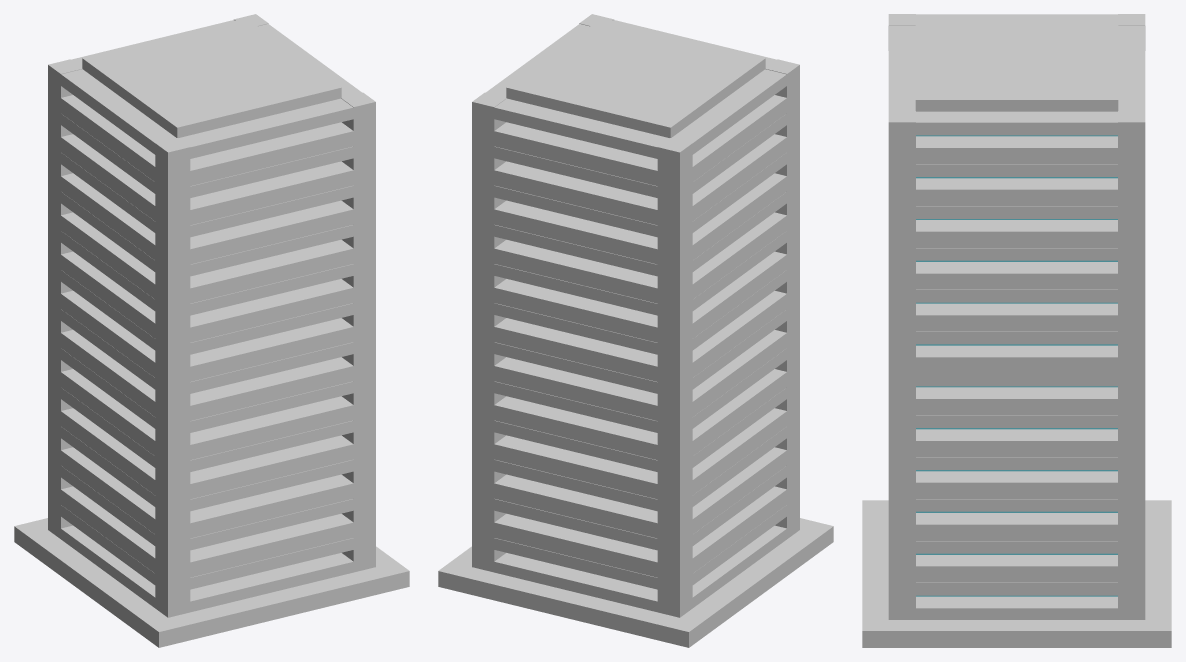
File: LowPolyBuilding4.fbx
3 views of the same model, side by side, from view 1: azimuth 30°, elevation 25°; view 2: azimuth 150°, elevation 25°; view 3: azimuth 270°, elevation 25° (orthographic). The views are drawn at different scales.
Visible parts, largest first — view 1: Plane, Cube.001, Cube; view 2: Plane, Cube.001, Cube; view 3: Plane, Cube.001, Cube.
Part boxes in pixels (<box>): Plane: <box>48,14,375,617</box>; Cube.001: <box>82,18,341,137</box>; Cube: <box>14,518,409,647</box>; Plane: <box>472,14,799,617</box>; Cube.001: <box>506,18,765,137</box>; Cube: <box>438,518,833,647</box>; Plane: <box>888,14,1145,619</box>; Cube.001: <box>915,14,1118,111</box>; Cube: <box>862,500,1171,647</box>.
Size of the model in its own units: 241 by 452 by 241.
